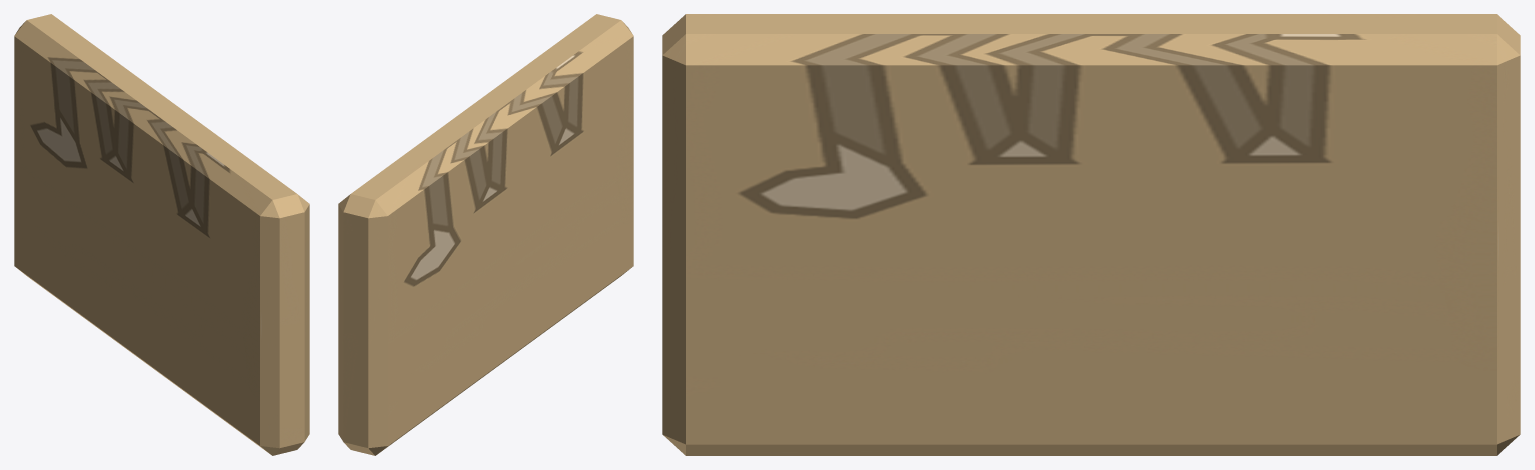
Rendered from Button.fbx.
The picture shows the model from 3 angles, left to right: view 1: azimuth 30°, elevation 25°; view 2: azimuth 150°, elevation 25°; view 3: azimuth 270°, elevation 25°; orthographic projection. The views are drawn at different scales.
Parts seen in each view (by area): view 1: Button_07; view 2: Button_07; view 3: Button_07.
Part boxes in pixels (x1,y1,x2,y2): Button_07: (14, 14, 309, 455); Button_07: (338, 14, 633, 455); Button_07: (662, 14, 1520, 455).
Size of the model in its own units: 0.3612 by 1.78 by 3.28.
